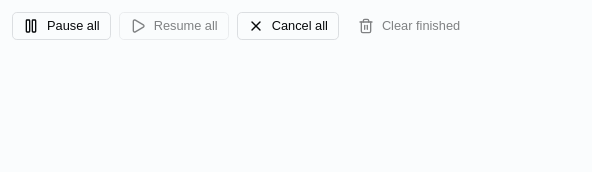
Test: QueueToolbar (FR-118) › backs out of cancelling everything without touching the queue
Click the button "Cancel all": coordinates (288, 26) [237,12,339,40]
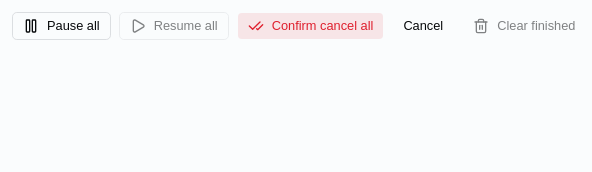
Click the button "Cancel": coordinates (423, 26) [392,12,454,40]
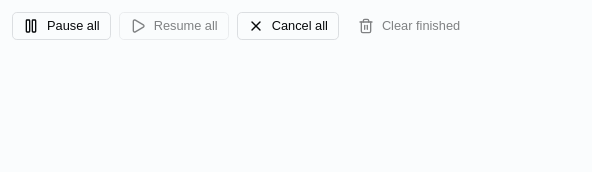
Expected: the button "Cancel all" is shown, [237,12,339,40]
Expected: the button "Confirm" is gone
